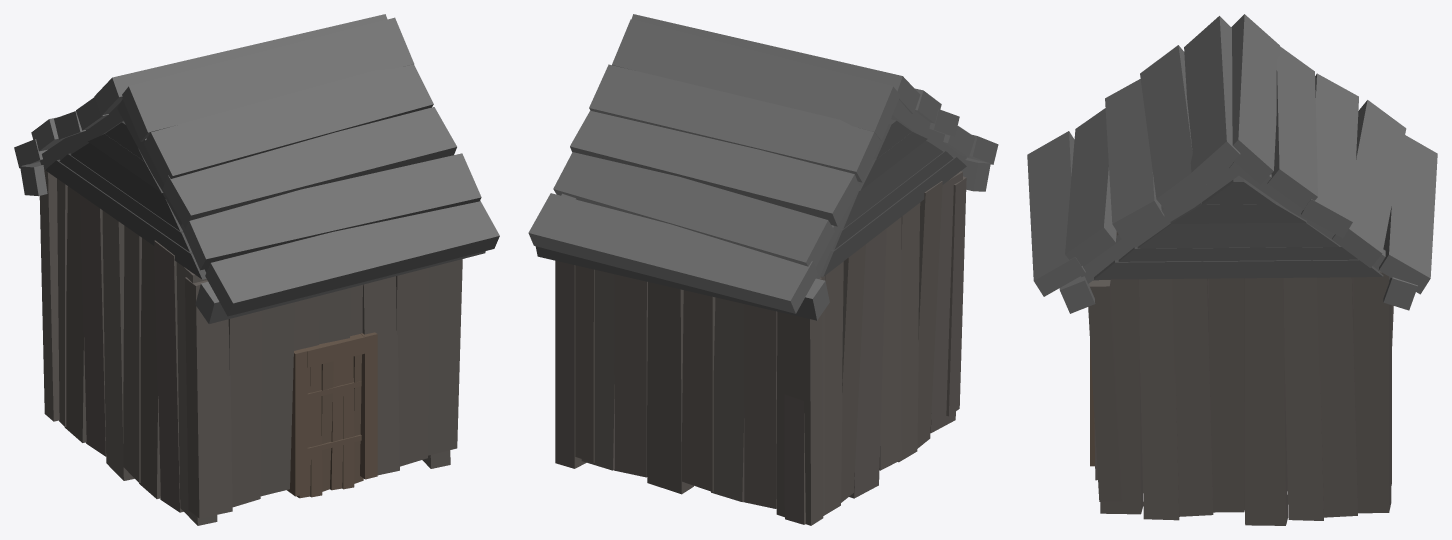
The model's file is Shack 2 2.0.fbx.
3 views of the same model, side by side, from view 1: azimuth 30°, elevation 25°; view 2: azimuth 150°, elevation 25°; view 3: azimuth 270°, elevation 25° (orthographic). The views are drawn at different scales.
Visible parts, largest first — view 1: Roof, Walls2, Cube.073, Roof_Sides; view 2: Walls2, Roof, Roof_Sides; view 3: Walls2, Roof, Roof_Sides.
Boxes of the visible parts, x1,y1,x2,y2 form: Roof: (14,14,499,323); Walls2: (39,169,462,525); Cube.073: (287,332,377,498); Roof_Sides: (45,121,206,279); Walls2: (555,171,966,525); Roof: (528,14,998,320); Roof_Sides: (820,119,966,276); Walls2: (1088,231,1393,525); Roof: (1027,14,1437,313); Roof_Sides: (1093,176,1383,280).
Size of the model in its own units: 879 by 1194 by 1143.
